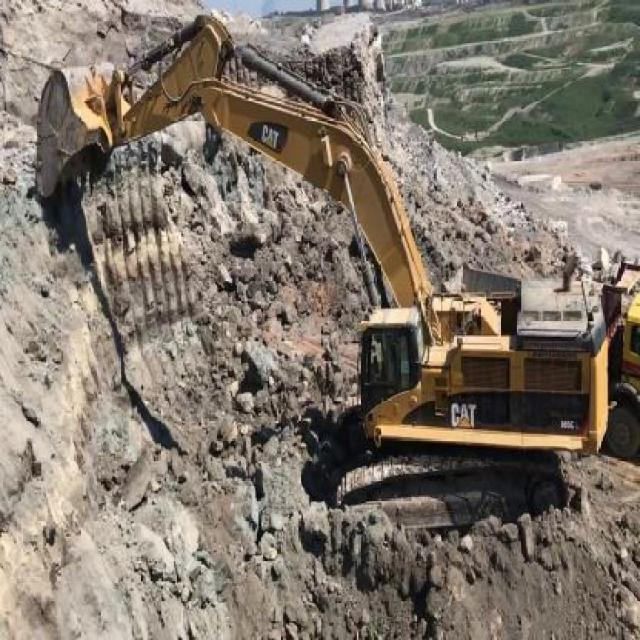Excavator: (28, 7, 606, 533)
